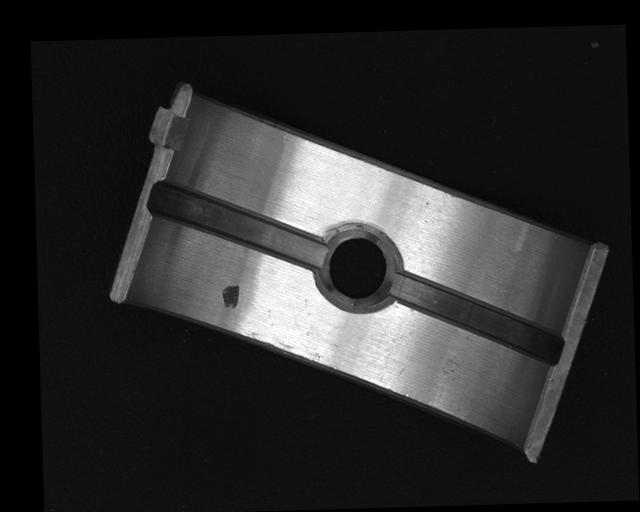blot: (220, 281, 240, 309)
gap: (388, 265, 565, 368), (150, 176, 324, 277)
hole: (321, 222, 394, 306)
